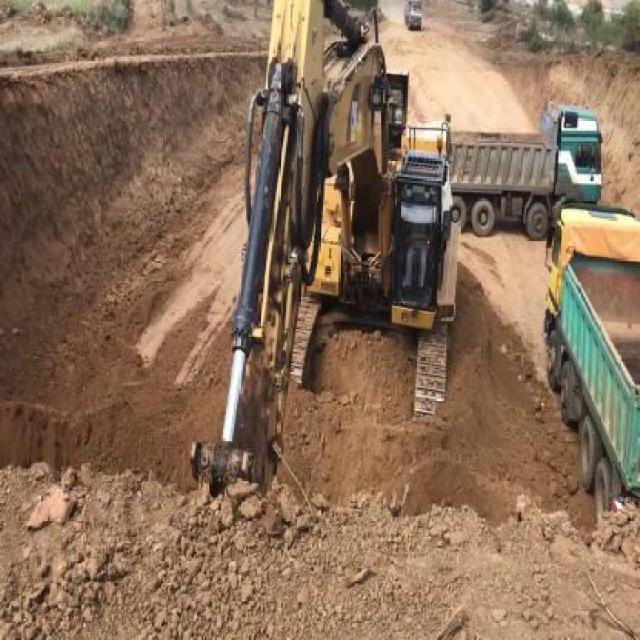Dump Truck: (546, 194, 639, 518), (448, 104, 602, 230)
Excavator: (194, 0, 455, 520)
